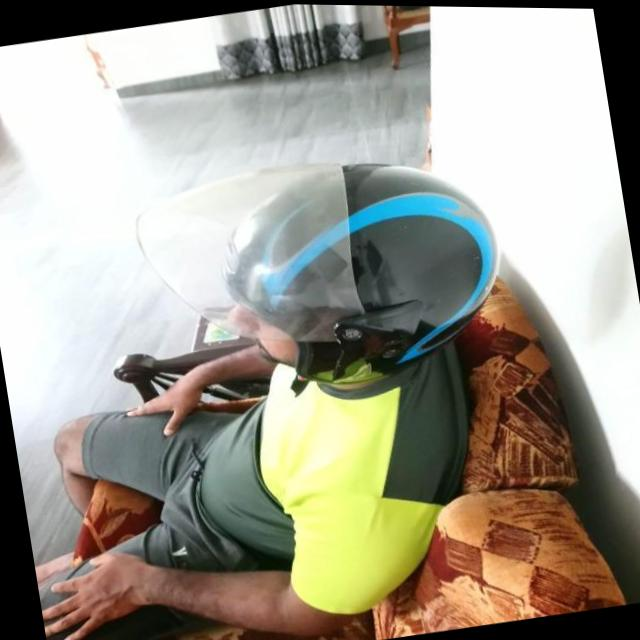helmet: (126, 128, 516, 420)
